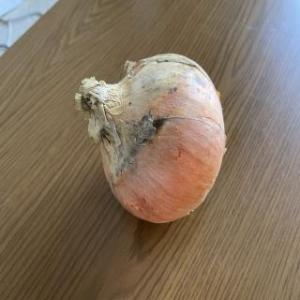onion: (74, 51, 226, 227)
